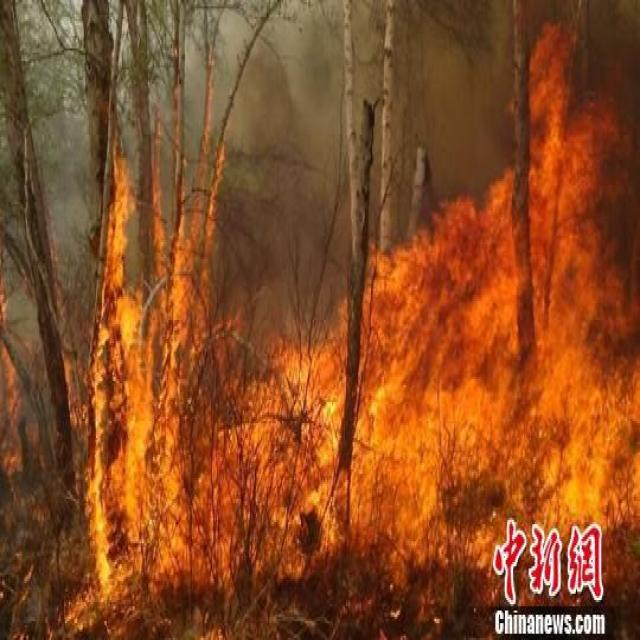fire: (242, 58, 638, 612), (81, 140, 227, 619), (0, 266, 39, 481)
